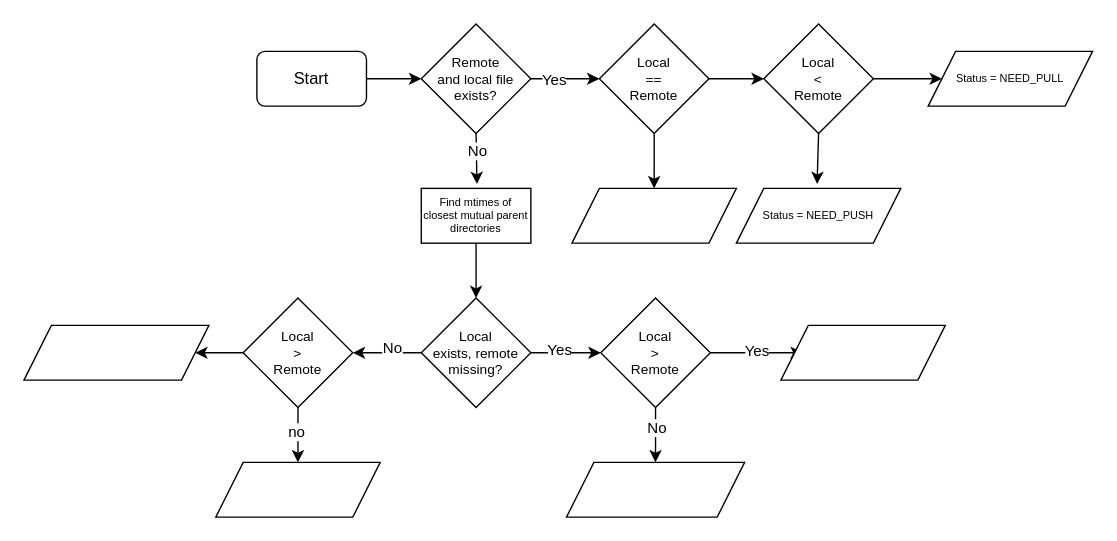
This 1117x541 diagram has some shape labels left out. The box of each missing label's shape, as (x1, y1, x2, y2) in pixels:
NEED_DELETE_LOCAL on directory: (565, 461, 745, 517)
NEED_DELETE_REMOTE on directory: (23, 324, 209, 380)
NEED_PULL on all files in remote directory: (214, 461, 380, 517)
NEED_PUSH on all local files in directory: (780, 324, 945, 380)
Status = OK: (571, 187, 736, 243)
